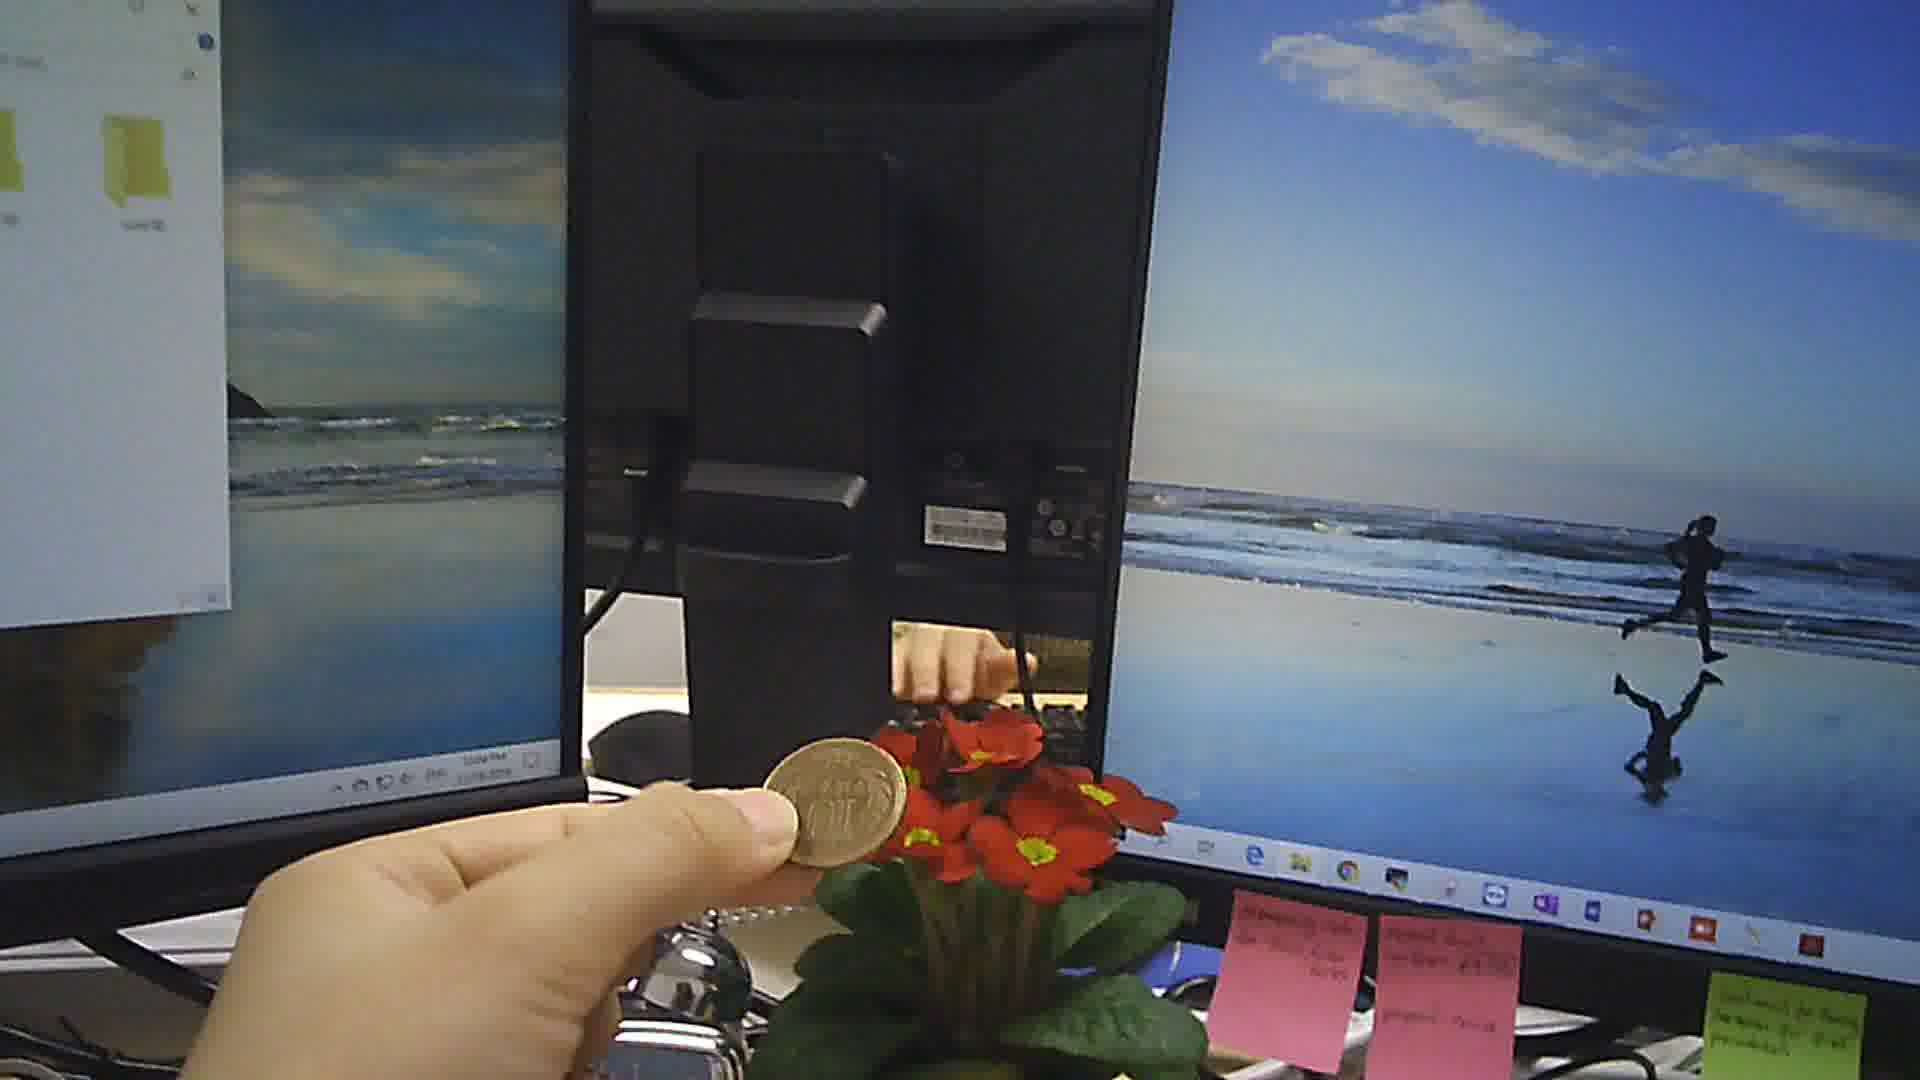10 Yen: (752, 731, 918, 870)
